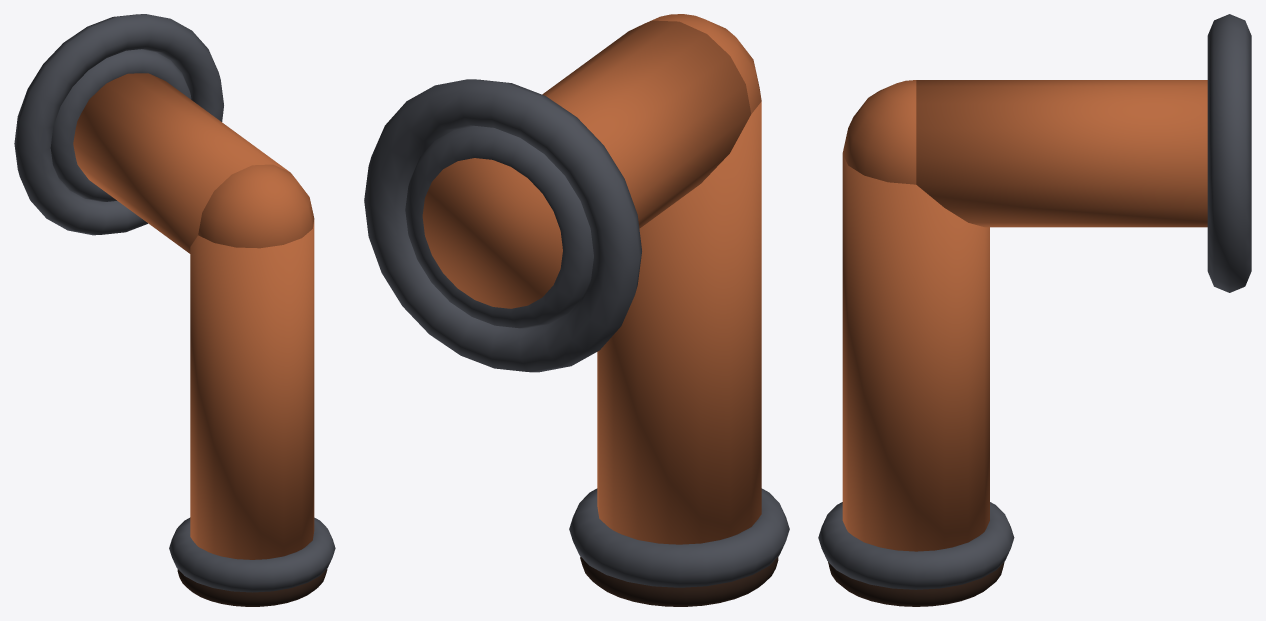
Rendered from Wall_PipeElbow.fbx.
3 views of the same model, side by side, from view 1: azimuth 30°, elevation 25°; view 2: azimuth 150°, elevation 25°; view 3: azimuth 270°, elevation 25° (orthographic). The views are drawn at different scales.
Parts seen in each view (by area): view 1: Wall_PipeElbow; view 2: Wall_PipeElbow; view 3: Wall_PipeElbow.
Boxes of the visible parts, x1,y1,x2,y2 form: Wall_PipeElbow: (14, 14, 335, 606); Wall_PipeElbow: (364, 14, 789, 606); Wall_PipeElbow: (818, 14, 1251, 606).
Bounding box in the file's own units: 0.76 × 1.64 × 1.18.
